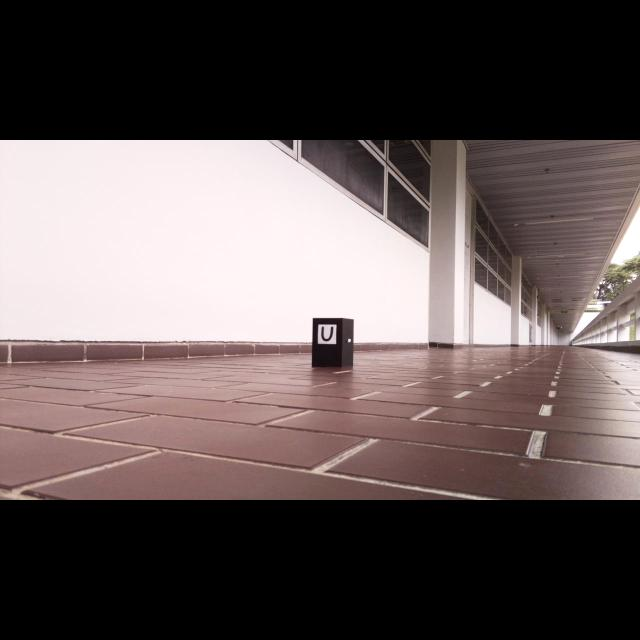U: (321, 327, 333, 341)
